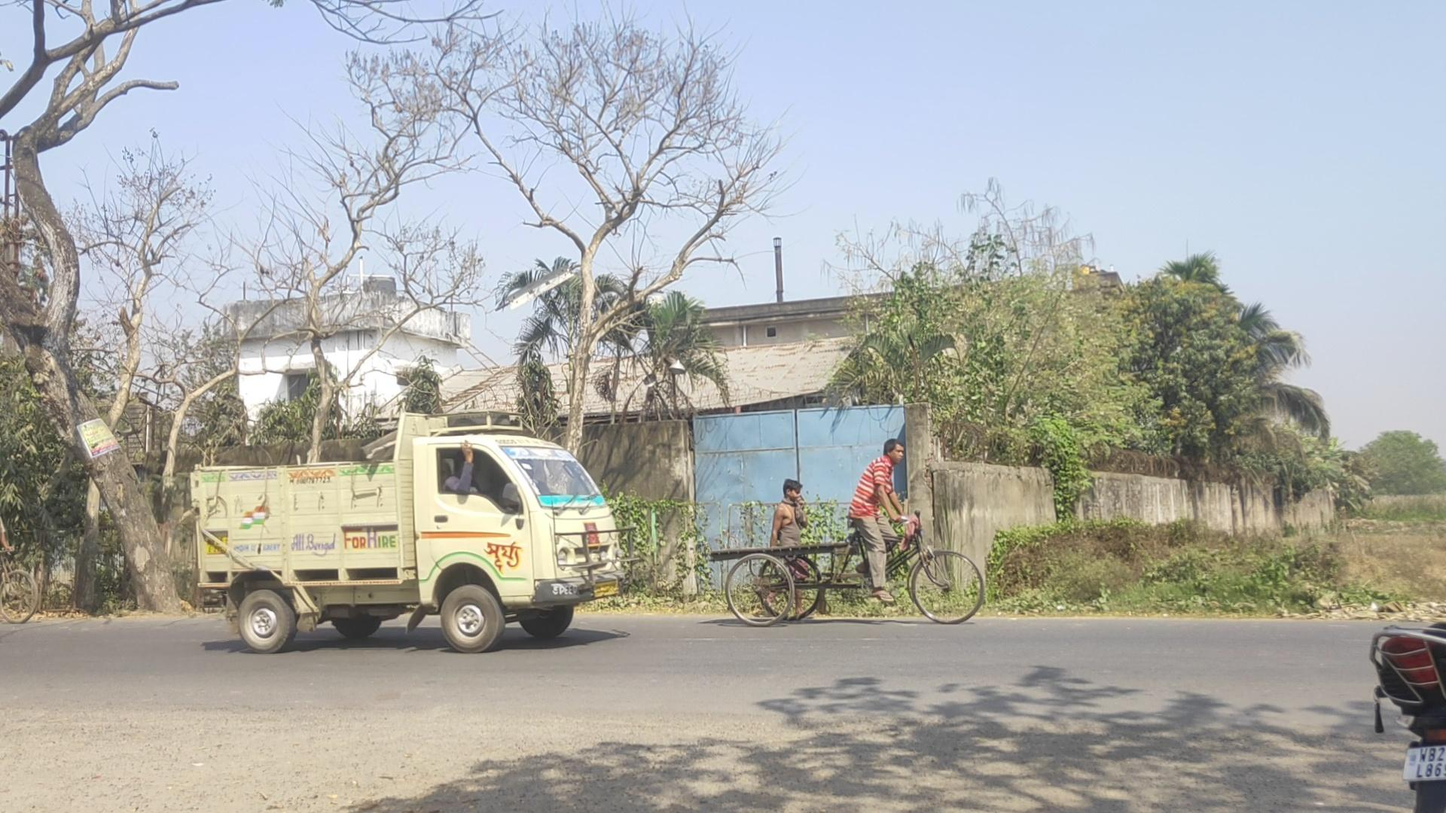van: (191, 410, 638, 655)
